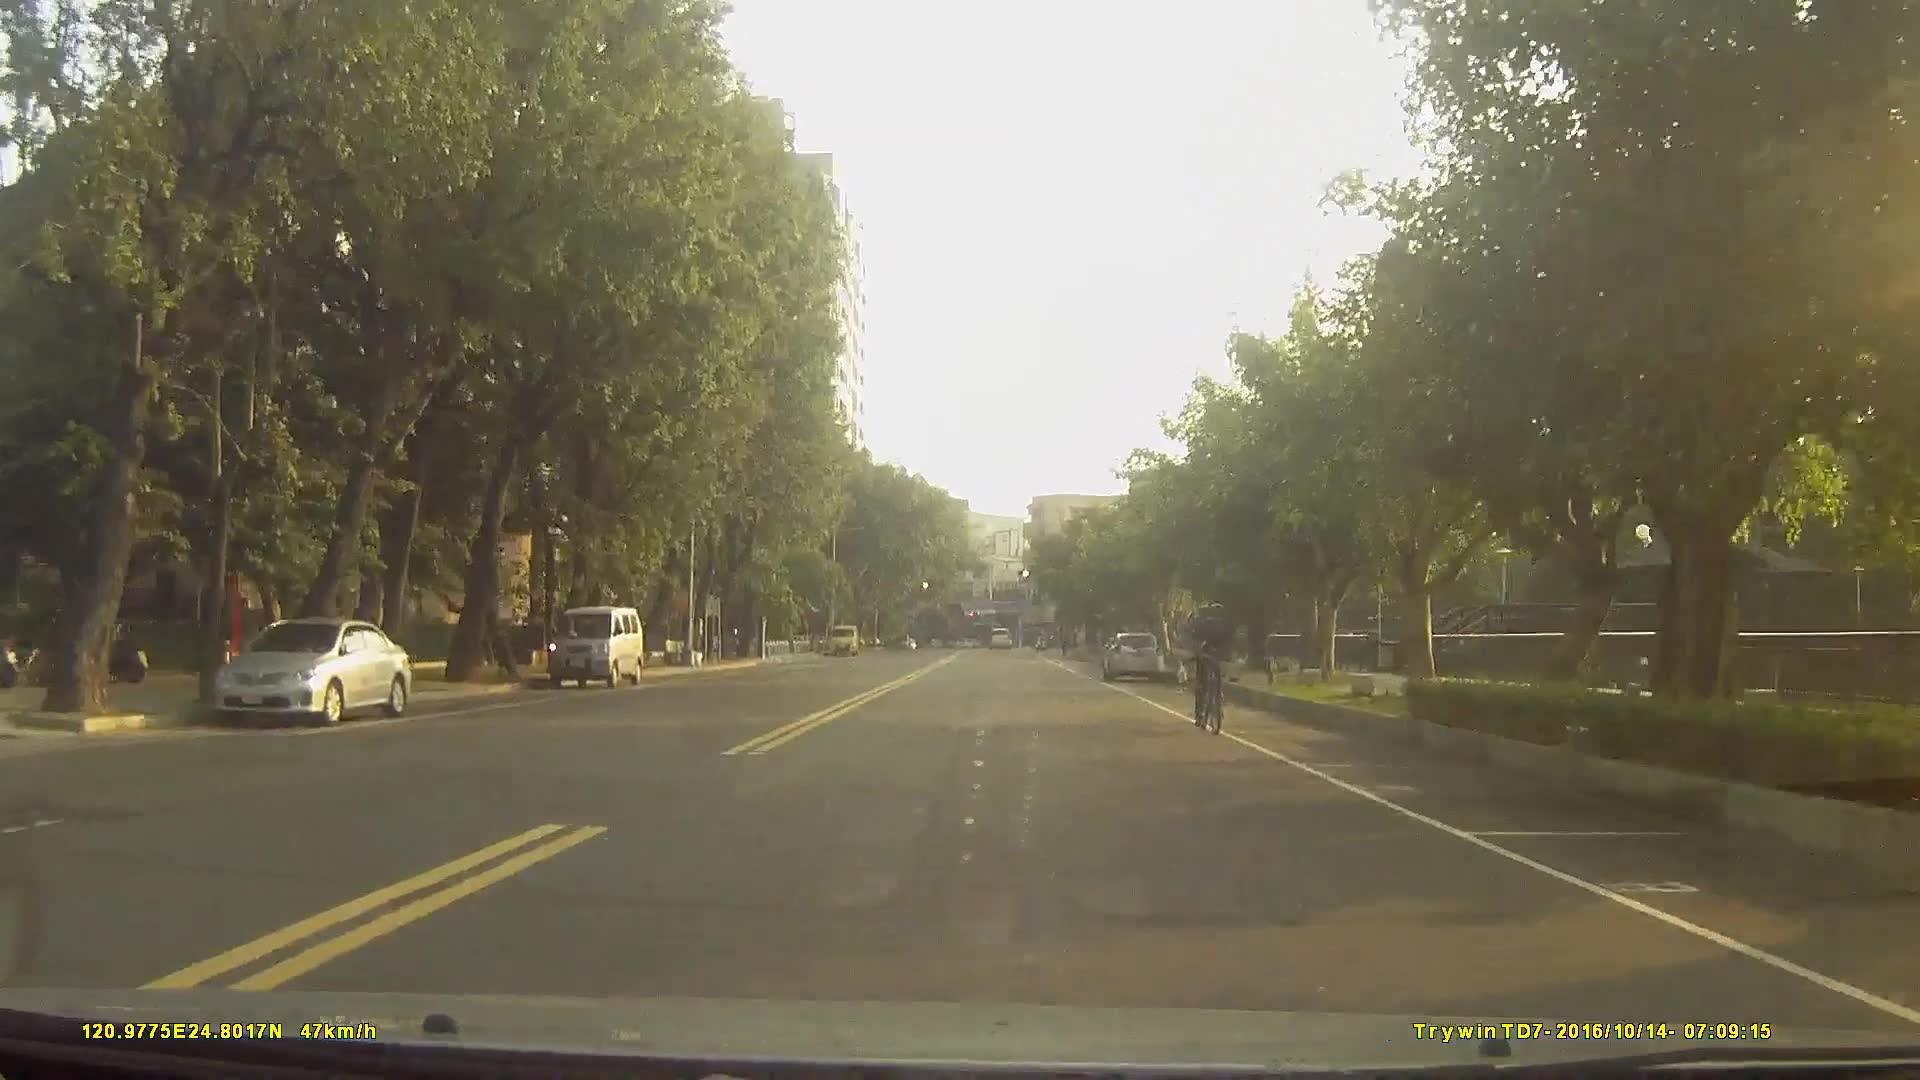rider: (1193, 600, 1233, 731)
vehicle: (209, 620, 413, 732), (548, 604, 646, 689), (1101, 634, 1168, 689), (986, 625, 1012, 652)
